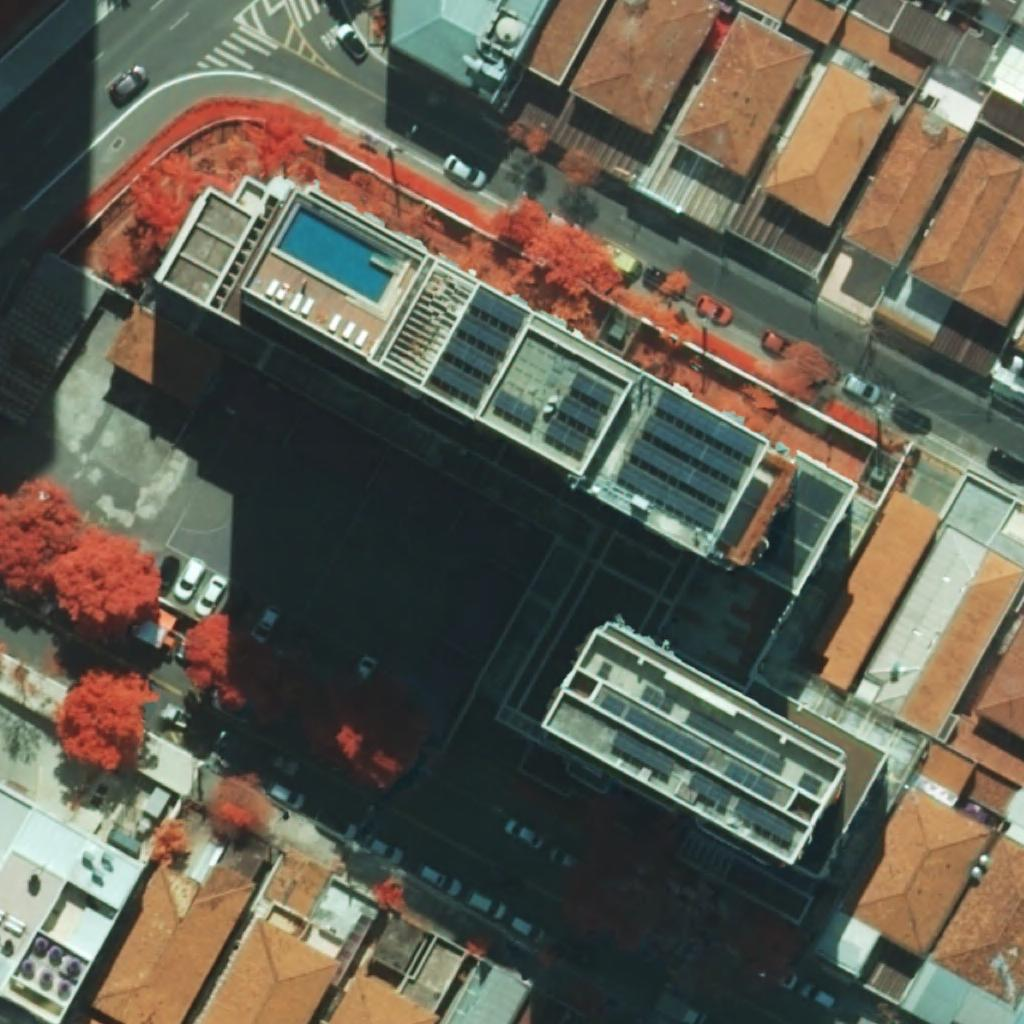pool: (277, 206, 398, 304)
